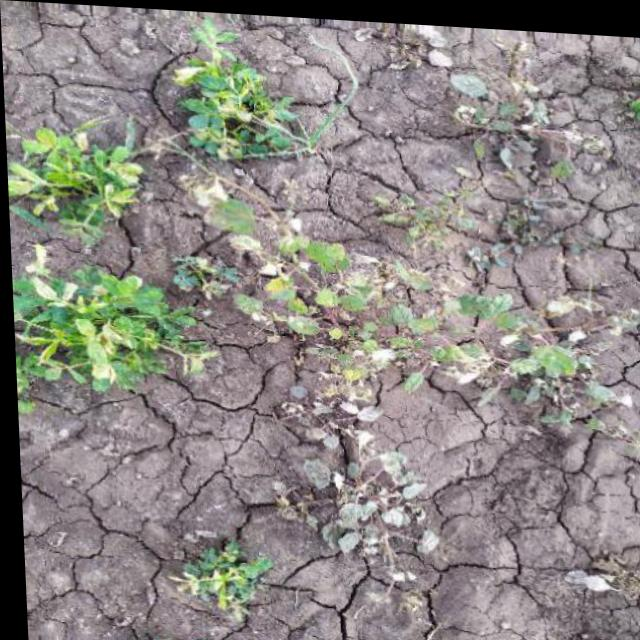weed: (6, 116, 223, 460), (230, 218, 609, 408), (152, 526, 298, 611)
